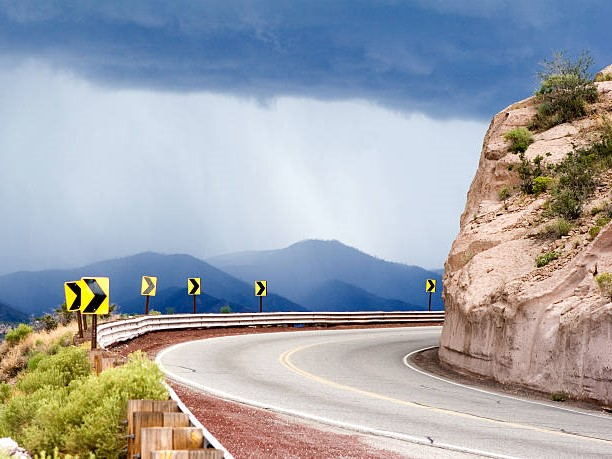rightTrun: (176, 292, 444, 453)
